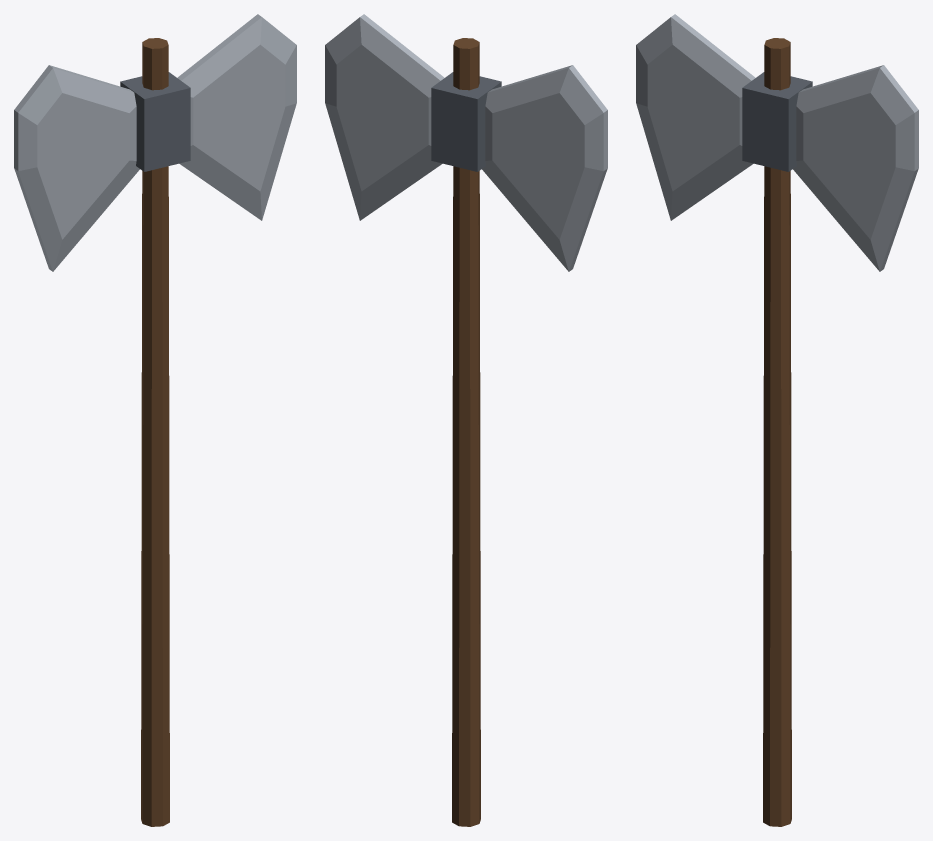
Rendered from g-battleaxe-double.glb.
3 renders of one model, left to right at view 1: azimuth 30°, elevation 25°; view 2: azimuth 150°, elevation 25°; view 3: azimuth 330°, elevation 25°, orthographic.
Visible parts, largest first — view 1: g-battleaxe-double; view 2: g-battleaxe-double; view 3: g-battleaxe-double.
Boxes of the visible parts, <box> form: g-battleaxe-double: <box>14,14,296,826</box>; g-battleaxe-double: <box>325,14,607,826</box>; g-battleaxe-double: <box>636,14,918,826</box>.
Bounding box in the file's own units: 0.3 × 0.8025 × 0.045.
